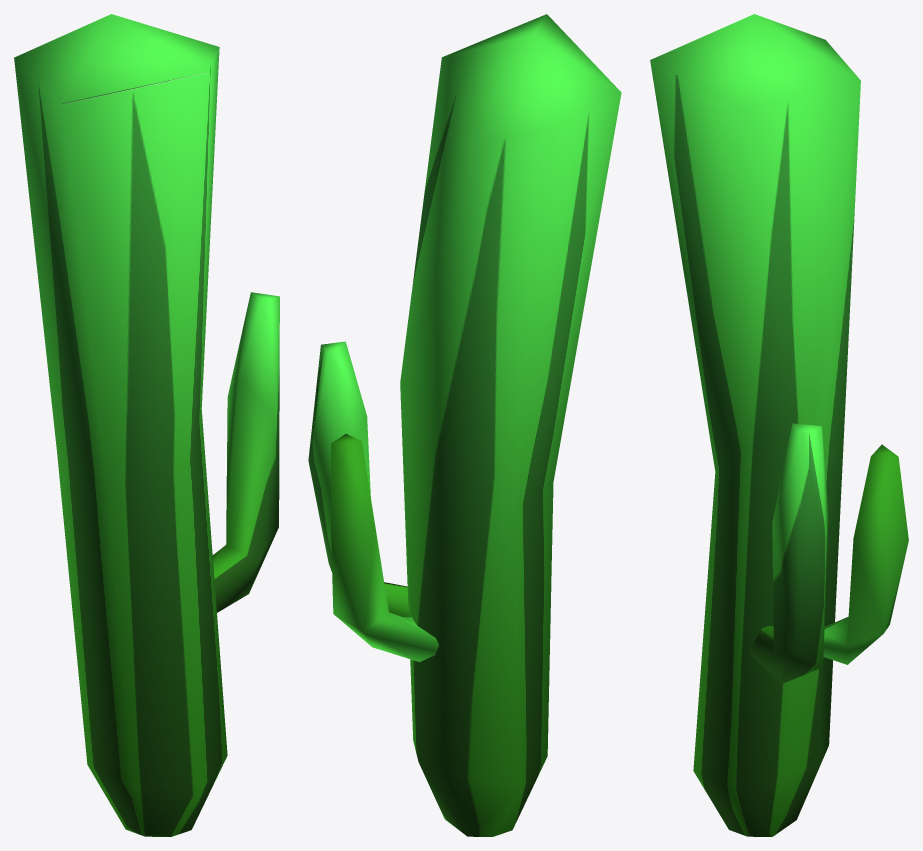
File: Cactus2.fbx
The picture shows the model from 3 angles, left to right: view 1: azimuth 30°, elevation 25°; view 2: azimuth 150°, elevation 25°; view 3: azimuth 270°, elevation 25°; orthographic projection. The views are drawn at different scales.
Visible parts, largest first — view 1: Cactus.001; view 2: Cactus.001; view 3: Cactus.001.
Boxes of the visible parts, left/top/right/bottom form: Cactus.001: left=14, top=14, right=279, bottom=836; Cactus.001: left=308, top=14, right=621, bottom=836; Cactus.001: left=650, top=14, right=908, bottom=836.
Size of the model in its own units: 74.51 by 220 by 65.87.
